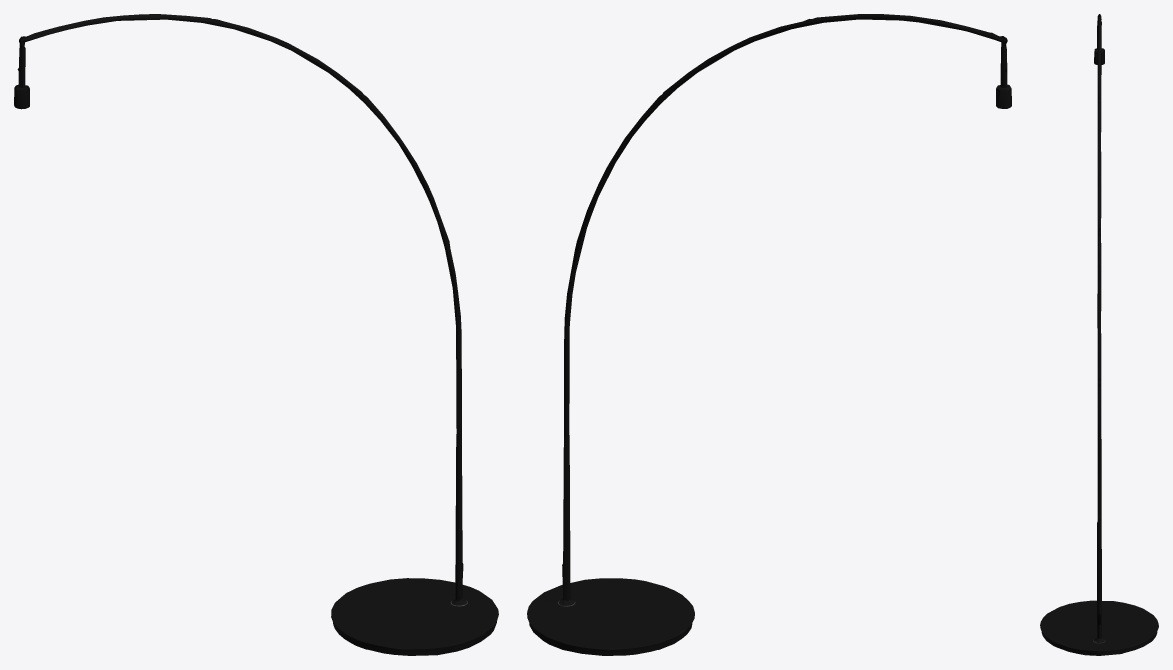
3 views of the same model, side by side, from view 1: azimuth 30°, elevation 25°; view 2: azimuth 150°, elevation 25°; view 3: azimuth 270°, elevation 25° (orthographic). The views are drawn at different scales.
Parts seen in each view (by area): view 1: ProcessedMeshNode; view 2: ProcessedMeshNode; view 3: ProcessedMeshNode.
Boxes of the visible parts, x1,y1,x2,y2 form: ProcessedMeshNode: [14, 14, 498, 655]; ProcessedMeshNode: [527, 14, 1011, 655]; ProcessedMeshNode: [1040, 14, 1158, 655].
Size of the model in its own units: 1.55 by 2.14 by 0.4757.
Materials: 1 (1 with a texture image).
